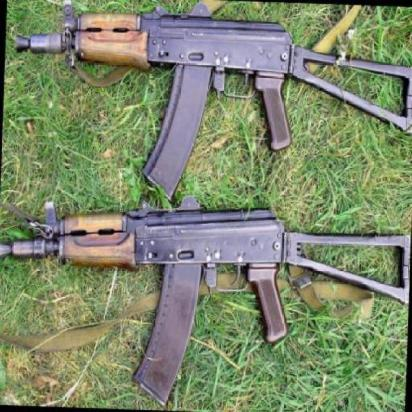Gun: (0, 195, 408, 407), (9, 0, 412, 206)
